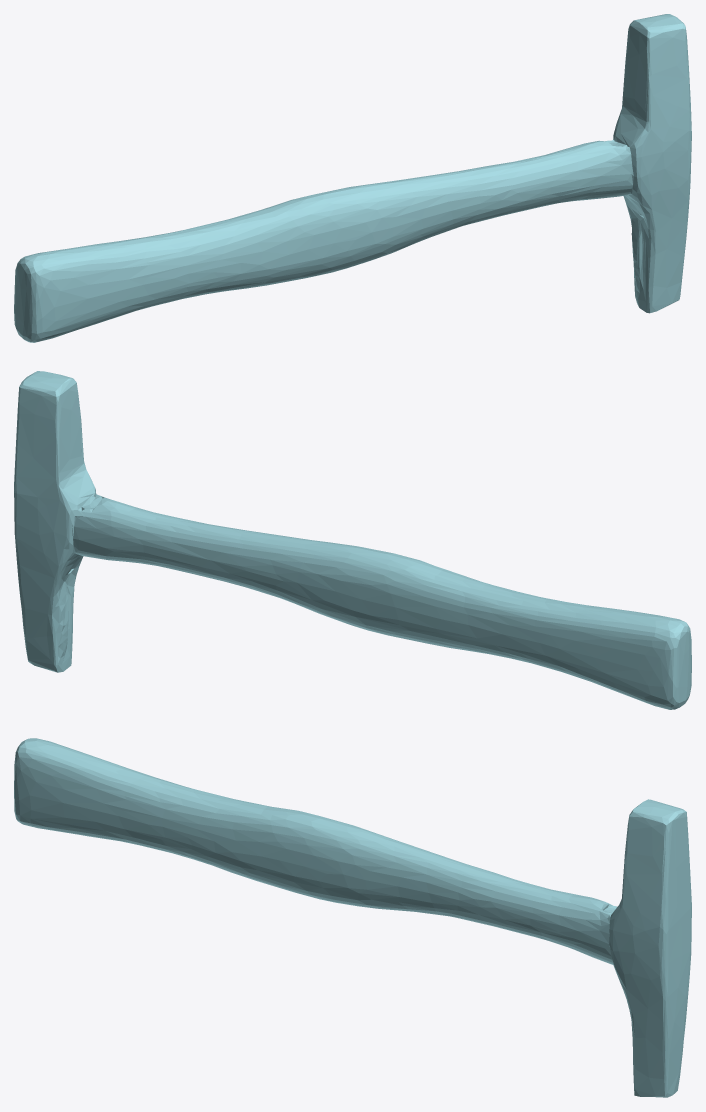
The model's file is new_hammer_2.obj.
3 renders of one model, top to bottom at view 1: azimuth 30°, elevation 25°; view 2: azimuth 150°, elevation 25°; view 3: azimuth 330°, elevation 25°, orthographic.
Parts seen in each view (by area): view 1: geometry_0; view 2: geometry_0; view 3: geometry_0.
Boxes of the visible parts, x1=… form: geometry_0: x1=14, y1=14, x2=691, y2=342; geometry_0: x1=14, y1=371, x2=691, y2=709; geometry_0: x1=14, y1=738, x2=691, y2=1097.
Size of the model in its own units: 0.2648 by 0.1101 by 0.0204.
